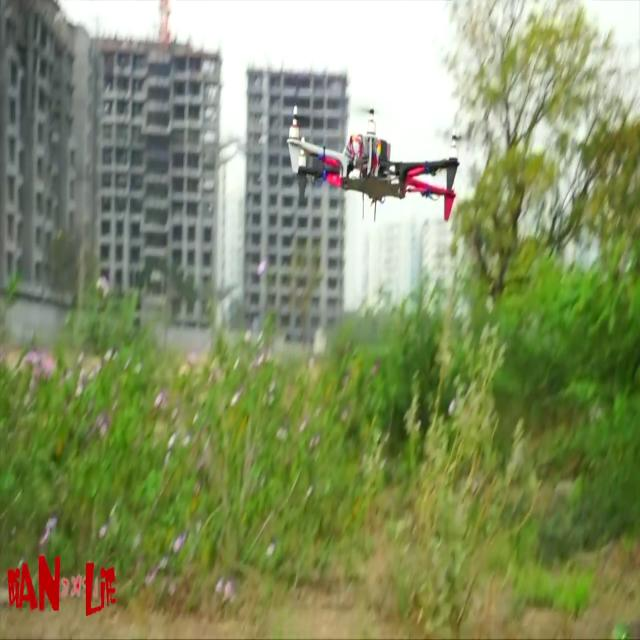drone: (273, 97, 474, 249)
